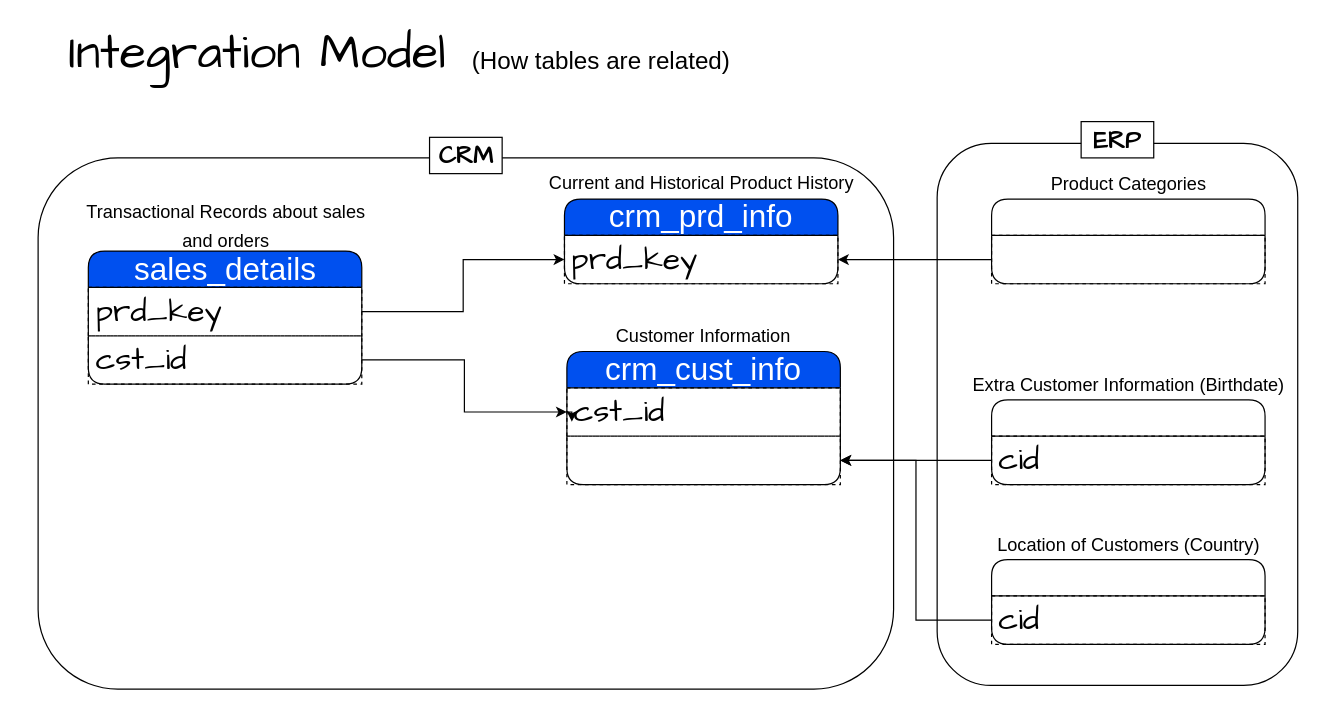
This 1319x710 diagram has some shape labels left out. The centre of each missing label's shape, as x and y in pixels:
cst_key: the point at 703,460
id: the point at 1127,259
